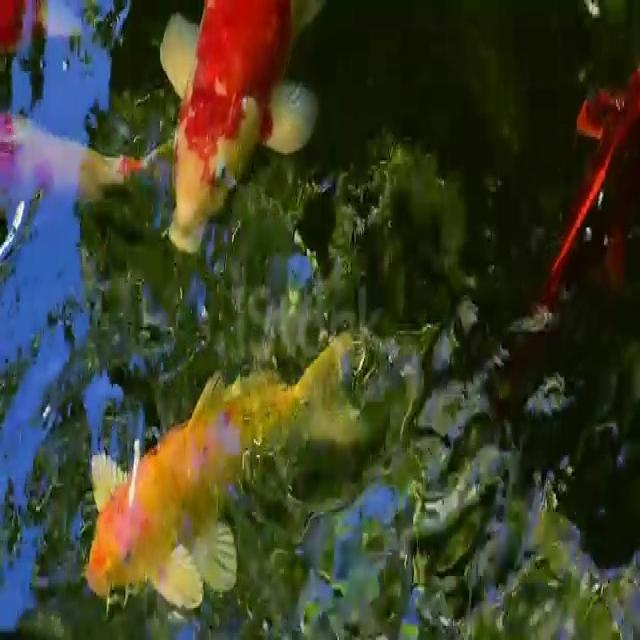fish: (69, 339, 425, 617), (154, 0, 326, 260)
